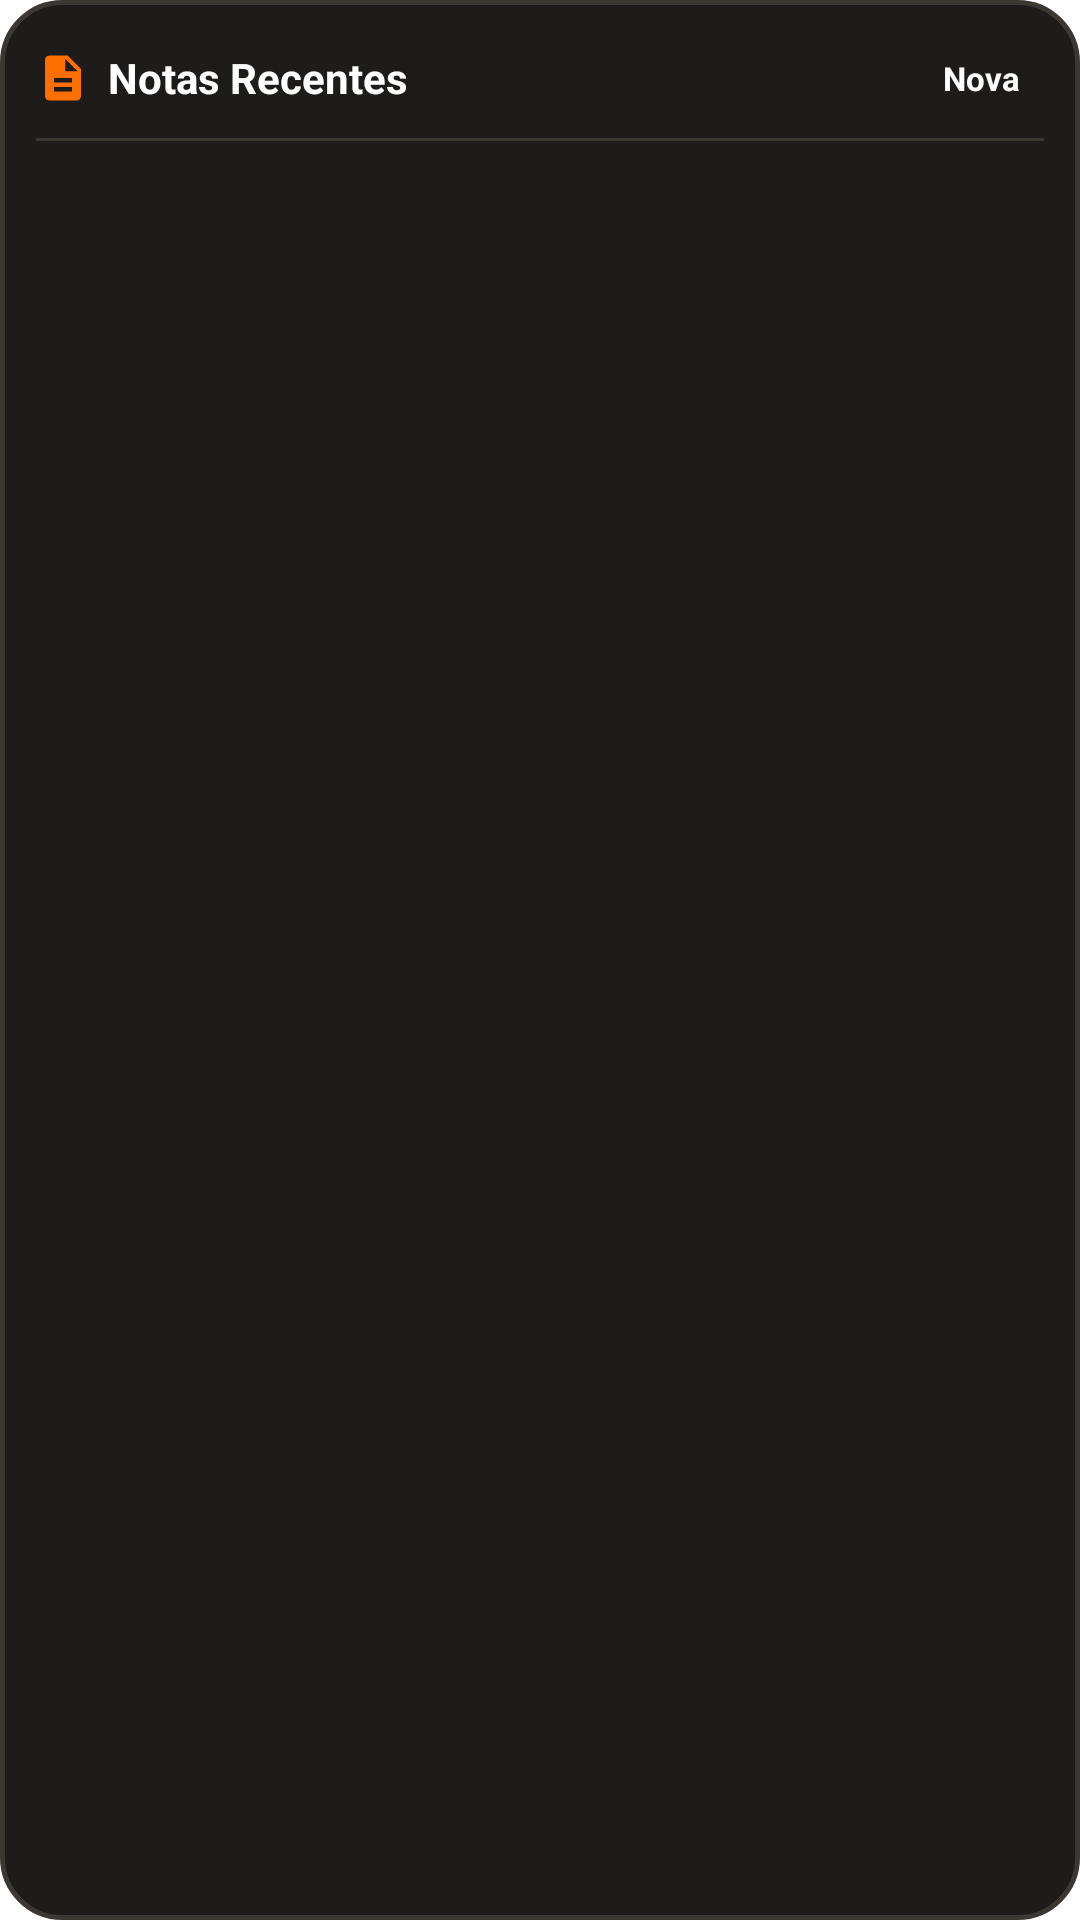

Where icons sit on this 1080px×1920px app screen, as Rect(x1, y1, x2, y2):
widget note: Rect(45, 55, 81, 101)
